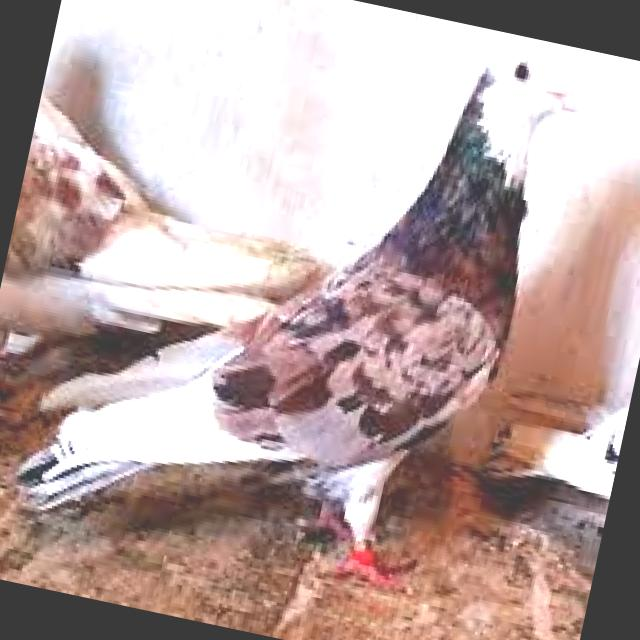bird: (2, 0, 595, 628), (0, 50, 366, 461)
